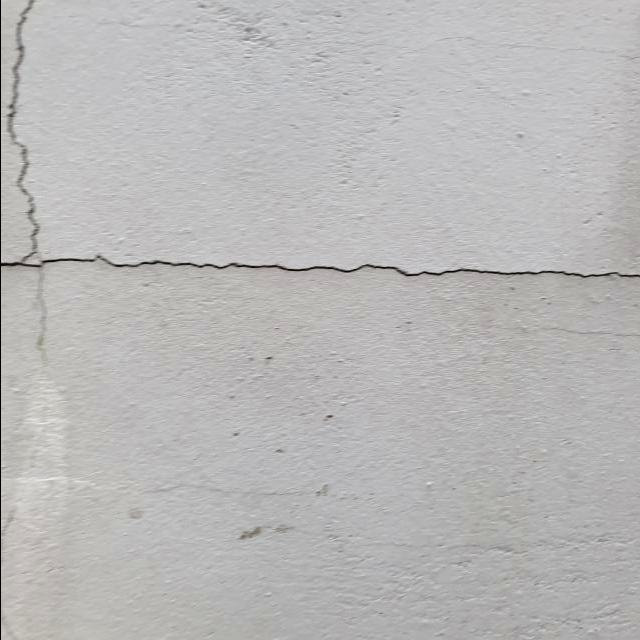SurfaceCrack: (1, 205, 640, 331)
